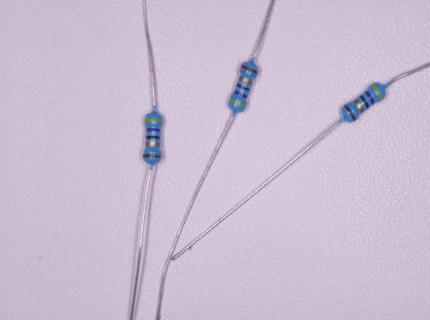Black band: (359, 95, 370, 108), (236, 83, 250, 92), (146, 135, 160, 139)
Brown band: (343, 104, 357, 121), (241, 64, 258, 75), (143, 153, 161, 158)
Gold band: (353, 98, 365, 114), (239, 76, 252, 85), (146, 141, 160, 146)
Violet band: (365, 91, 375, 105), (234, 90, 248, 99), (146, 128, 160, 132)
Yellow band: (371, 83, 383, 101), (229, 98, 246, 107), (145, 119, 163, 123)
